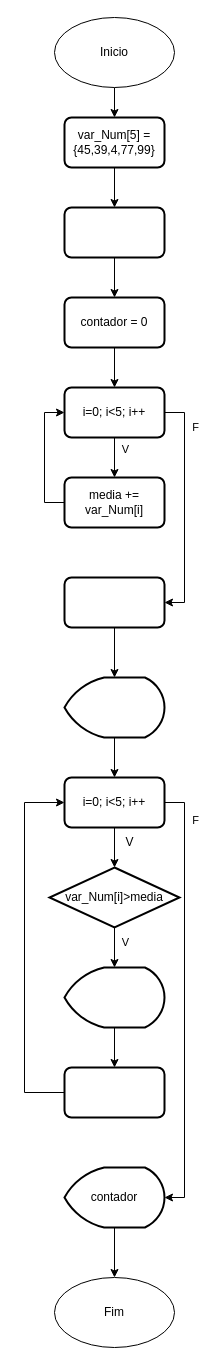
Some shapes in this 216 by 1365 pixel diagram are drawn without their labels. Each missing label, with the box of its shape:
contador++: (63, 1066, 165, 1118)
media: (63, 676, 165, 738)
media = 0: (63, 206, 165, 258)
media = media / 5: (63, 576, 165, 628)
var_Num[i]: (63, 966, 165, 1028)
